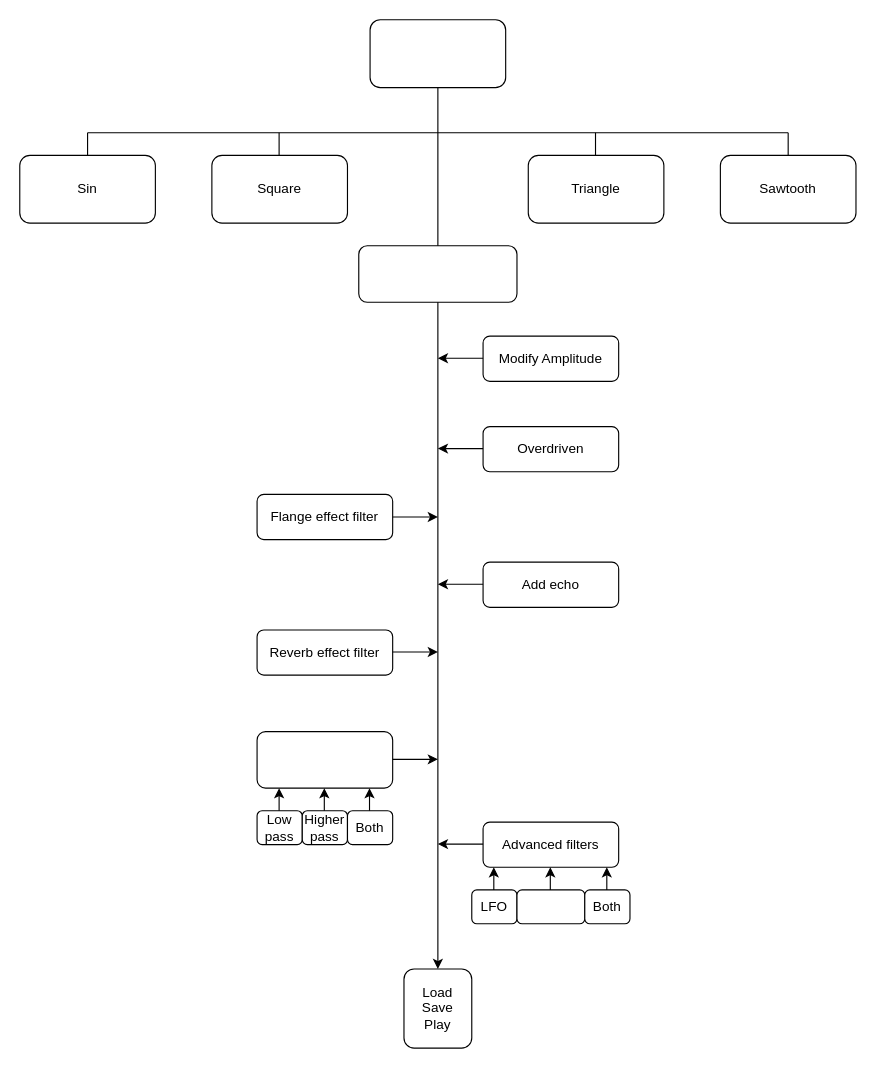
The diagram is 876 pixels wide and 1068 high, and some of its shapes have lost their labels. The centre of each missing label's shape, as x and y in pixels:
"Frequency analysis of sound" goes at (324,759).
"Functions" goes at (437,273).
"Modify frequence" goes at (550,906).
"Project D" goes at (437,53).
